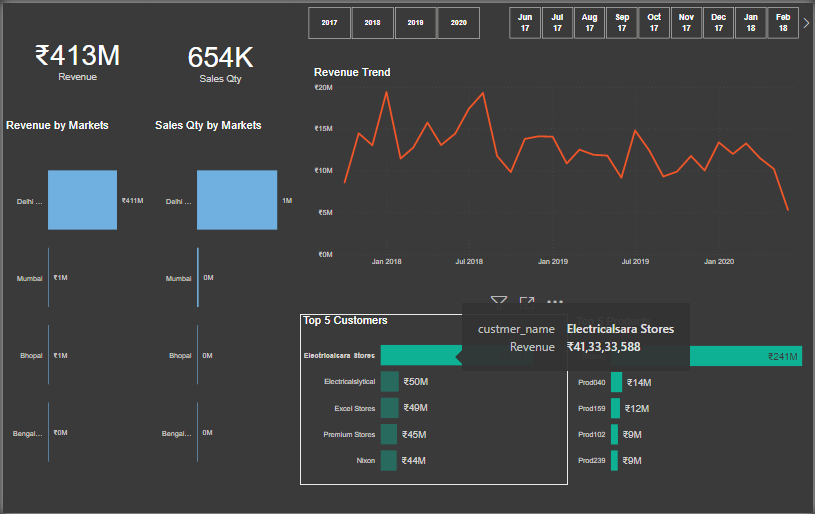

The page's visual inventory and layout, read from the dashboard file:
{"tool":"powerbi","page":{"name":"Key Insights","canvas":[1350,850],"ordinal":0},"visuals":[{"type":"card","fields":{"Values":["BaseMeasures (2).Revenue"]},"box":[0,0,247.9,184.6],"z":0},{"type":"card","fields":{"Values":["BaseMeasures (2).Sales Qty"]},"box":[247.9,0,227.9,193.1],"z":1000},{"type":"barChart","title":"Revenue by Markets","fields":{"Y":["BaseMeasures (2).Revenue"],"Category":["sales markets.markets_name"]},"box":[0,193.1,247.9,631.9],"z":2000},{"type":"barChart","title":"Sales Qty by Markets","fields":{"Y":["BaseMeasures (2).Sales Qty"],"Category":["sales markets.markets_name"]},"box":[247.9,193.1,247.9,631.9],"z":3000},{"type":"slicer","fields":{"Values":["sales date.year"]},"box":[483.3,0,335,66.7],"z":4000},{"type":"slicer","fields":{"Values":["sales date.cy_date"]},"box":[818.6,0,531.7,66.5],"z":5000},{"type":"barChart","title":"Top 5 Customers","fields":{"Y":["BaseMeasures (2).Revenue"],"Category":["sales customers.custmer_name"]},"box":[495,518.3,446.7,285],"z":6000},{"type":"barChart","title":"Top 5 Products","fields":{"Y":["BaseMeasures (2).Revenue"],"Category":["sales products.product_code"]},"box":[950.7,519.2,399.5,282.8],"z":7000},{"type":"lineChart","title":"Revenue Trend","fields":{"Y":["BaseMeasures (2).Revenue"],"Category":["sales date.cy_date"]},"box":[513.3,105,825,341.7],"z":8000}]}

Visuals, with their boxes in screenshot pixels (x1, y1, x2, y2), scaled from the page's 1350x850 canvas onto the 815x514 screenshot:
card - BaseMeasures (2).Revenue: 0,0,150,112
card - BaseMeasures (2).Sales Qty: 150,0,287,117
"Revenue by Markets" barChart: 0,117,150,499
"Sales Qty by Markets" barChart: 150,117,299,499
slicer - sales date.year: 292,0,494,40
slicer - sales date.cy_date: 494,0,814,40
"Top 5 Customers" barChart: 299,313,569,486
"Top 5 Products" barChart: 574,314,814,485
"Revenue Trend" lineChart: 310,63,808,270
